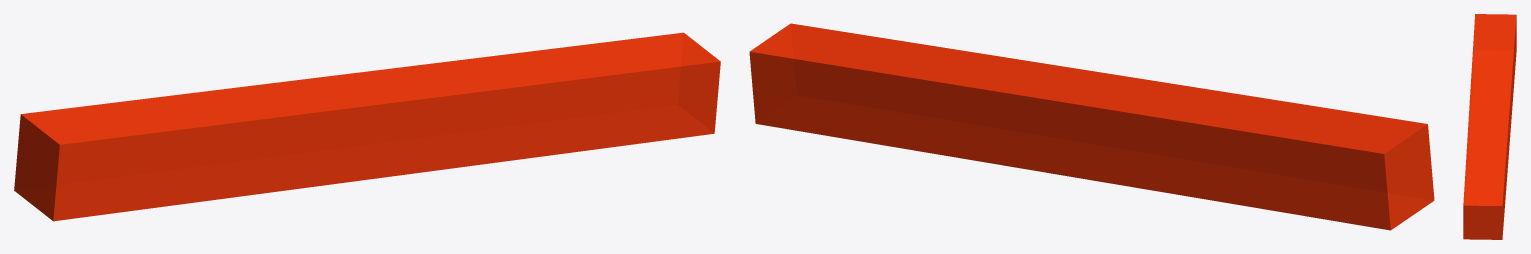
The model's file is Event_420604493_EErechit_5.fbx.
The picture shows the model from 3 angles, left to right: view 1: azimuth 30°, elevation 25°; view 2: azimuth 150°, elevation 25°; view 3: azimuth 270°, elevation 25°; orthographic projection. The views are drawn at different scales.
Parts seen in each view (by area): view 1: Model; view 2: Model; view 3: Model.
Part boxes in pixels (x1,y1,x2,y2): Model: [14, 32, 720, 221]; Model: [749, 23, 1434, 230]; Model: [1463, 14, 1516, 239].
Size of the model in its own units: 0.7043 by 0.1404 by 0.0989.
